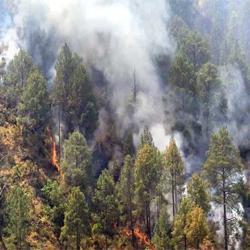fire: (132, 227, 157, 249), (50, 142, 61, 168)
